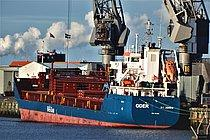Ship: (12, 64, 184, 131)
